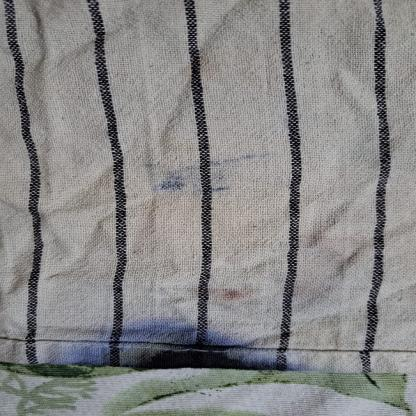spot: (42, 319, 307, 372), (140, 158, 200, 194), (169, 281, 261, 304), (211, 152, 284, 167), (207, 164, 239, 198)
